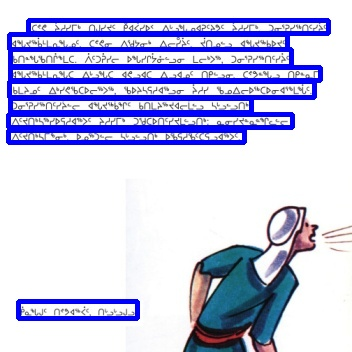inuktitut: (9, 81, 314, 97), (10, 49, 291, 66), (9, 34, 287, 49), (10, 67, 320, 80), (28, 20, 328, 33), (8, 114, 292, 127), (10, 98, 251, 112), (8, 130, 244, 142), (18, 301, 137, 318)
